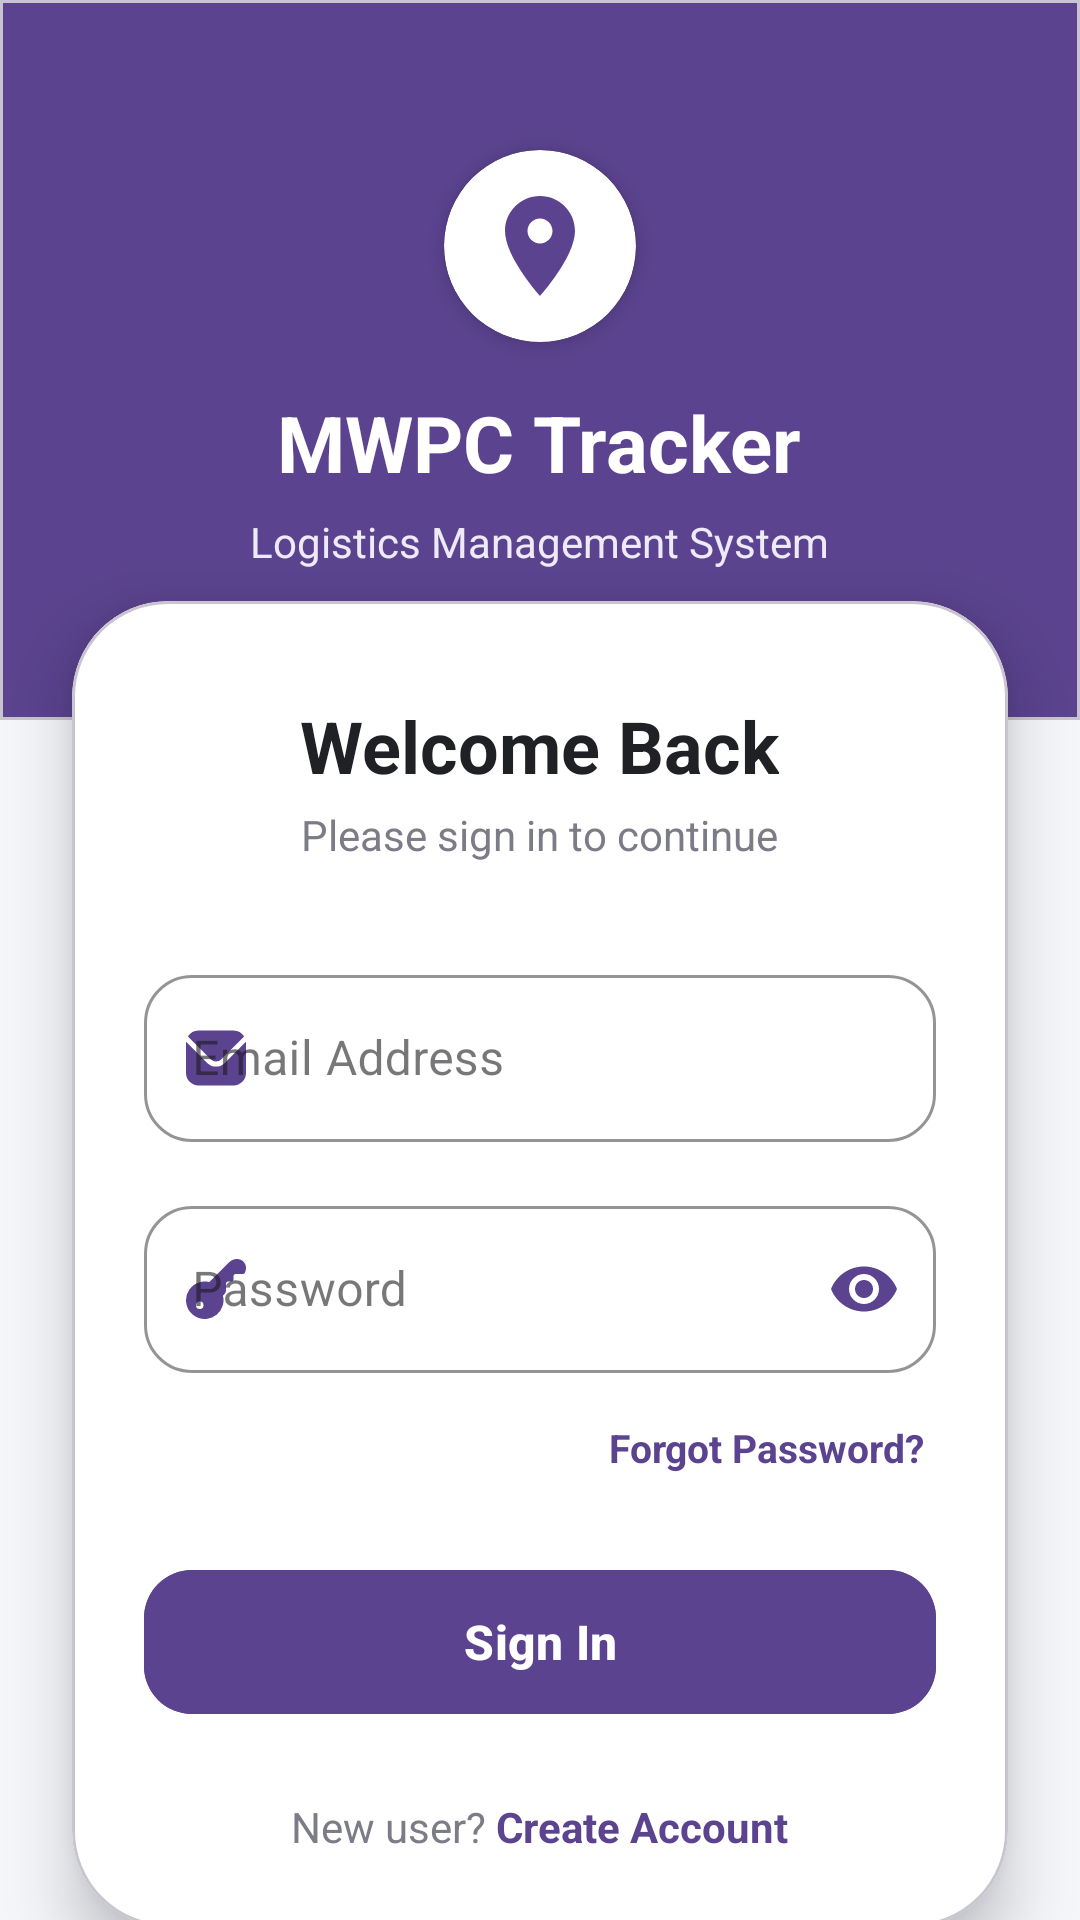

Point at icon controls on the screen. Image size 1080px x 1920px, points as (x,y).
location: (540,246)
